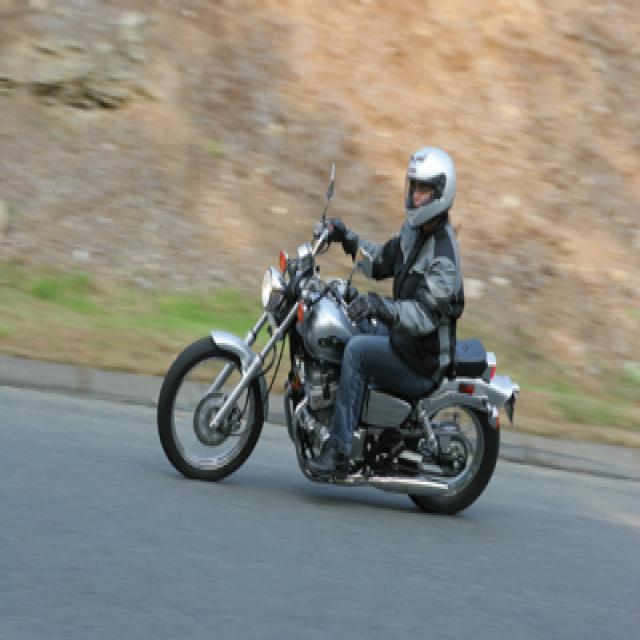helmet: (402, 135, 454, 220)
